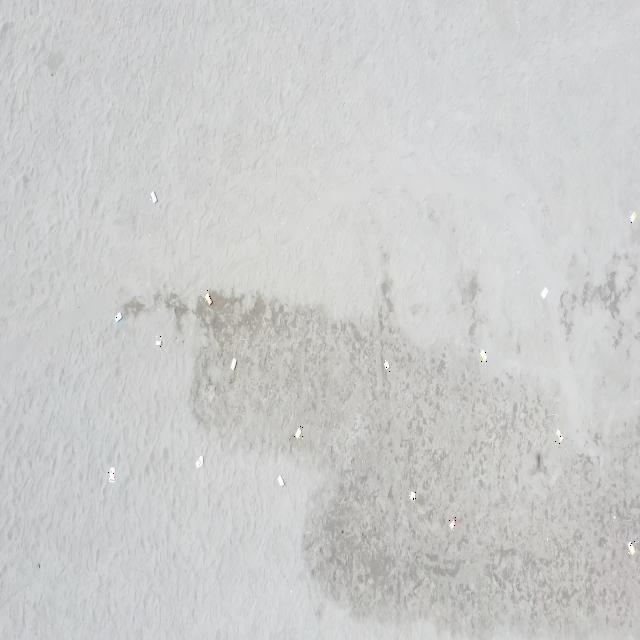retort-pouch: (276, 472, 286, 489), (195, 452, 204, 470), (555, 426, 564, 444), (628, 210, 638, 225), (108, 465, 116, 483), (205, 290, 213, 308), (448, 516, 457, 532), (627, 540, 636, 556), (150, 189, 158, 205), (294, 426, 303, 440), (540, 286, 549, 300), (230, 356, 237, 372), (481, 348, 488, 364), (115, 312, 123, 326), (155, 336, 163, 349), (409, 490, 417, 502), (384, 360, 391, 372)
